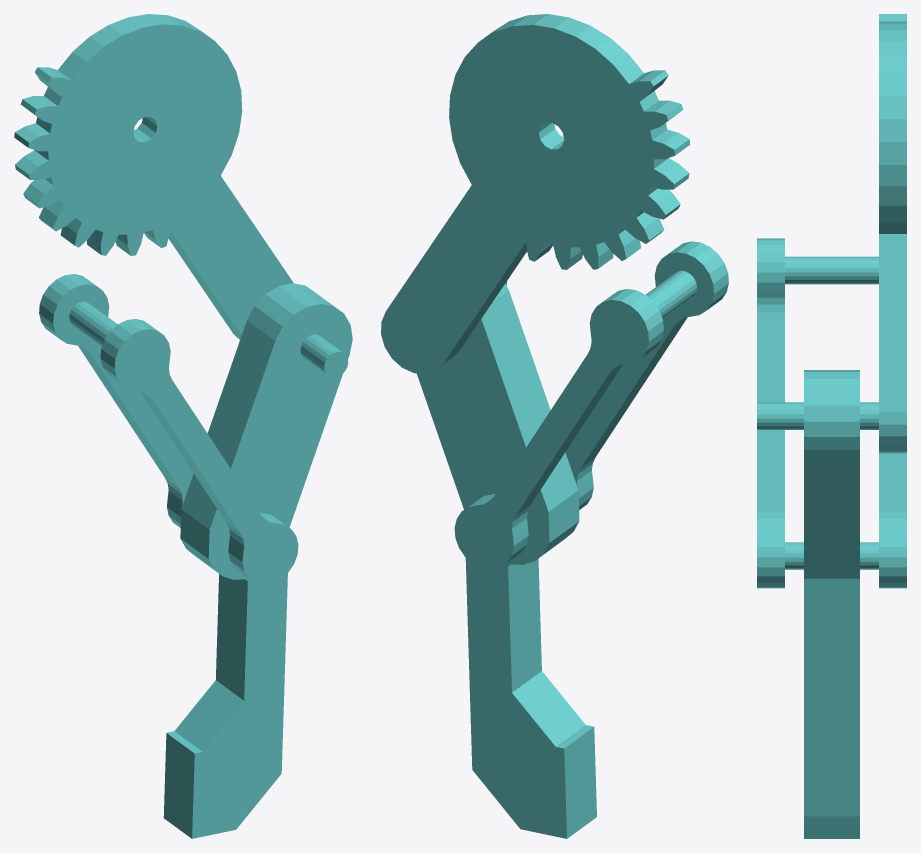
Rendered from Gripper_left.dae.
The picture shows the model from 3 angles, left to right: view 1: azimuth 30°, elevation 25°; view 2: azimuth 150°, elevation 25°; view 3: azimuth 270°, elevation 25°; orthographic projection. The views are drawn at different scales.
Parts seen in each view (by area): view 1: gripper_left; view 2: gripper_left; view 3: gripper_left.
Boxes of the visible parts, <box> form: gripper_left: <box>14,14,352,838</box>; gripper_left: <box>381,14,728,838</box>; gripper_left: <box>757,14,906,838</box>.
Size of the model in its own units: 0.035 by 0.016 by 0.092.
